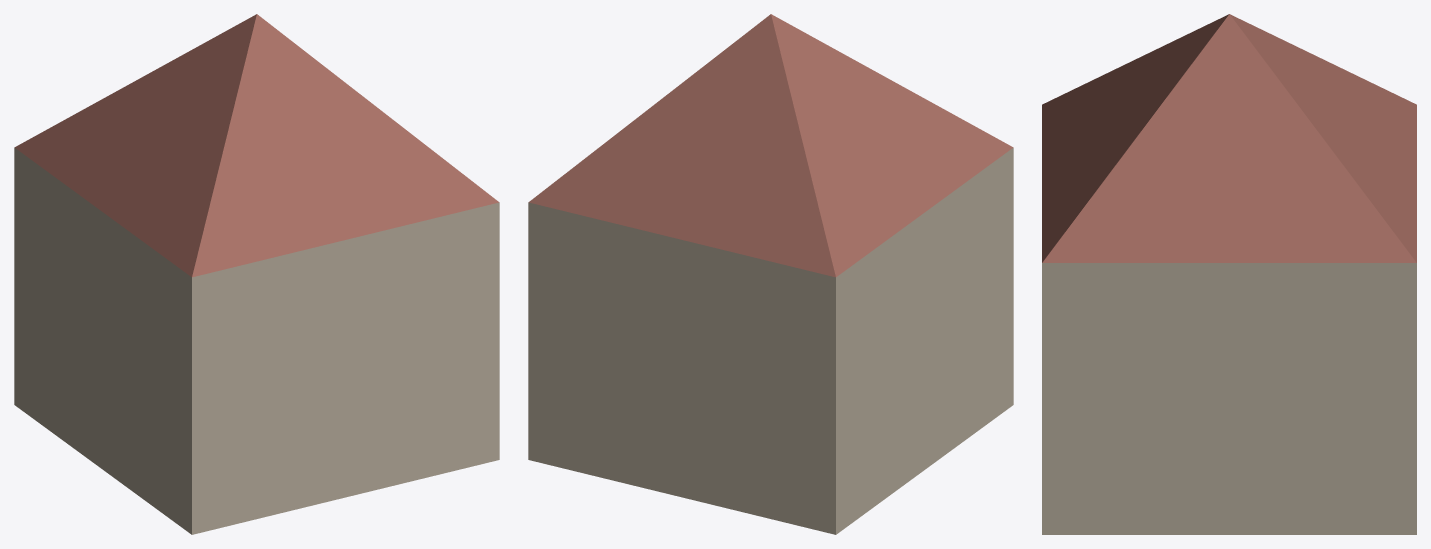
The model's file is robot.gltf.
3 renders of one model, left to right at view 1: azimuth 30°, elevation 25°; view 2: azimuth 150°, elevation 25°; view 3: azimuth 270°, elevation 25°, orthographic. The views are drawn at different scales.
Parts seen in each view (by area): view 1: House; view 2: House; view 3: House.
Boxes of the visible parts, x1=… form: House: x1=14, y1=14, x2=499, y2=534; House: x1=528, y1=14, x2=1013, y2=534; House: x1=1042, y1=14, x2=1416, y2=534.
Size of the model in its own units: 1 by 1.3 by 1.
